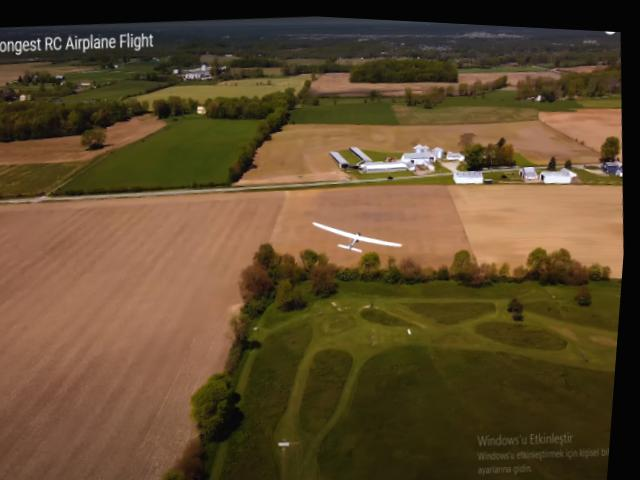plane: (313, 209, 408, 257)
